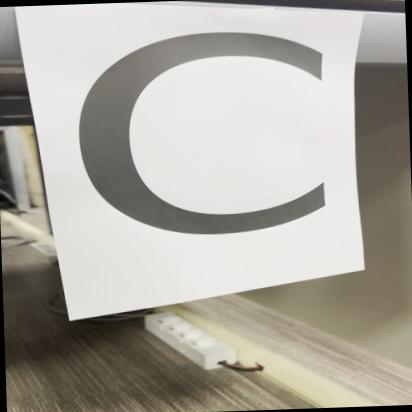seat: (40, 12, 358, 281)
